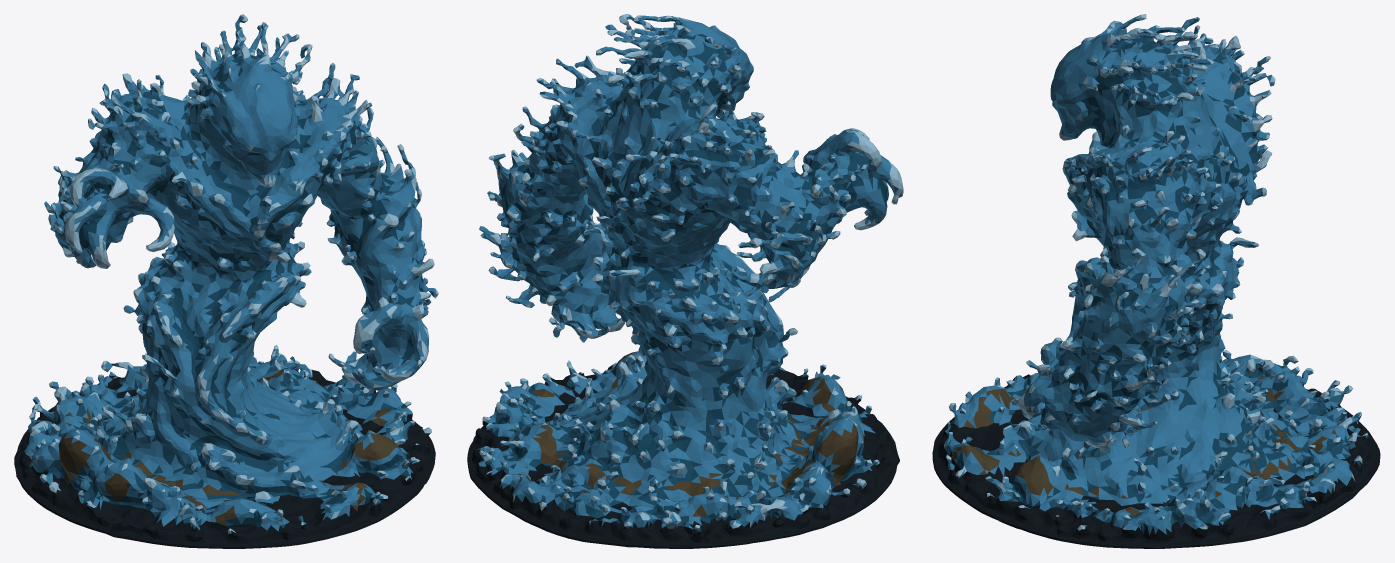
The model's file is elemental_agua.glb.
3 renders of one model, left to right at view 1: azimuth 30°, elevation 25°; view 2: azimuth 150°, elevation 25°; view 3: azimuth 270°, elevation 25°, orthographic. The views are drawn at different scales.
Parts seen in each view (by area): view 1: tmpugoml1h2.ply; view 2: tmpugoml1h2.ply; view 3: tmpugoml1h2.ply.
Part boxes in pixels (x1,y1,x2,y2): tmpugoml1h2.ply: [14, 14, 438, 548]; tmpugoml1h2.ply: [467, 14, 903, 548]; tmpugoml1h2.ply: [932, 14, 1380, 548].
Bounding box in the file's own units: 1.86 × 1.96 × 1.79.
